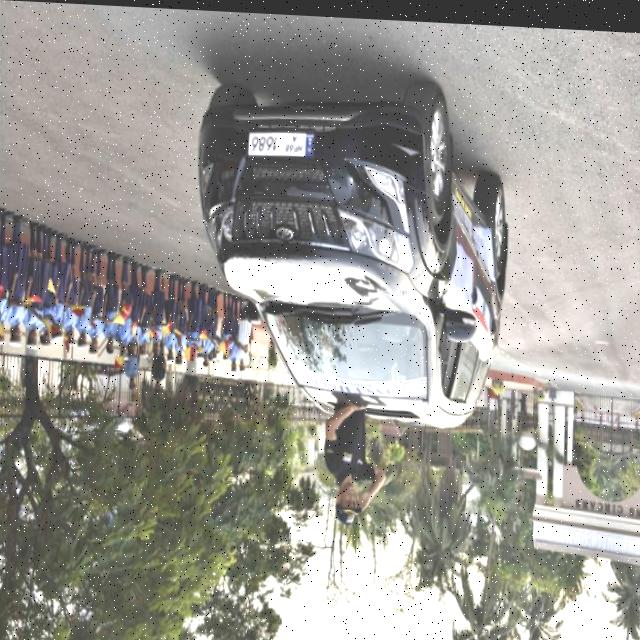plate: (248, 126, 316, 158)
